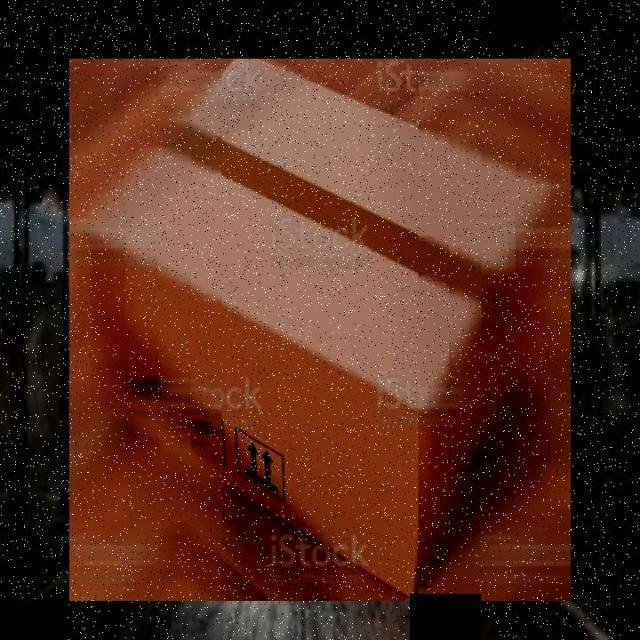box: (62, 51, 580, 608)
